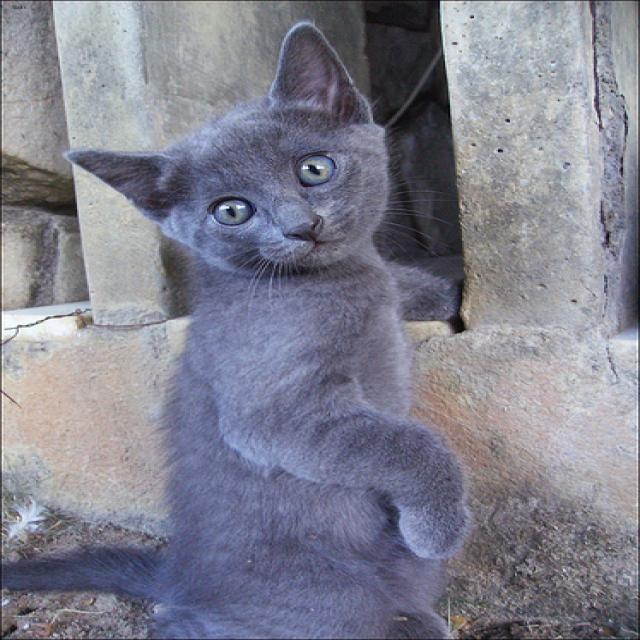Russian_Blue: (62, 19, 387, 265)
